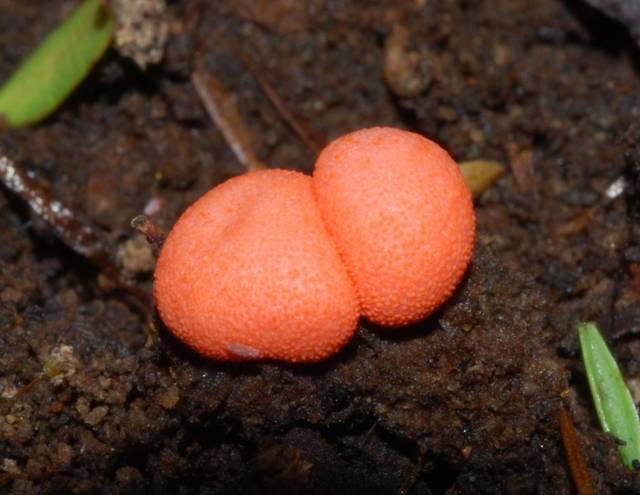poisonous_mushroom: (148, 123, 478, 364), (311, 124, 477, 328)
